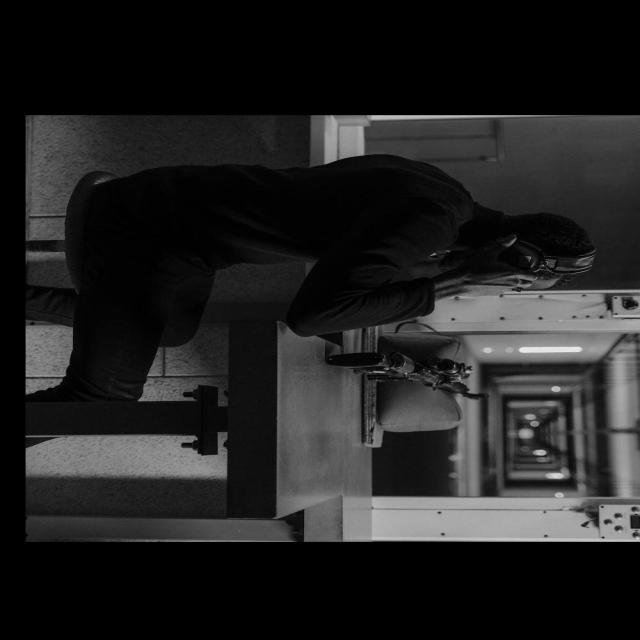Rifle: (324, 351, 491, 403)
